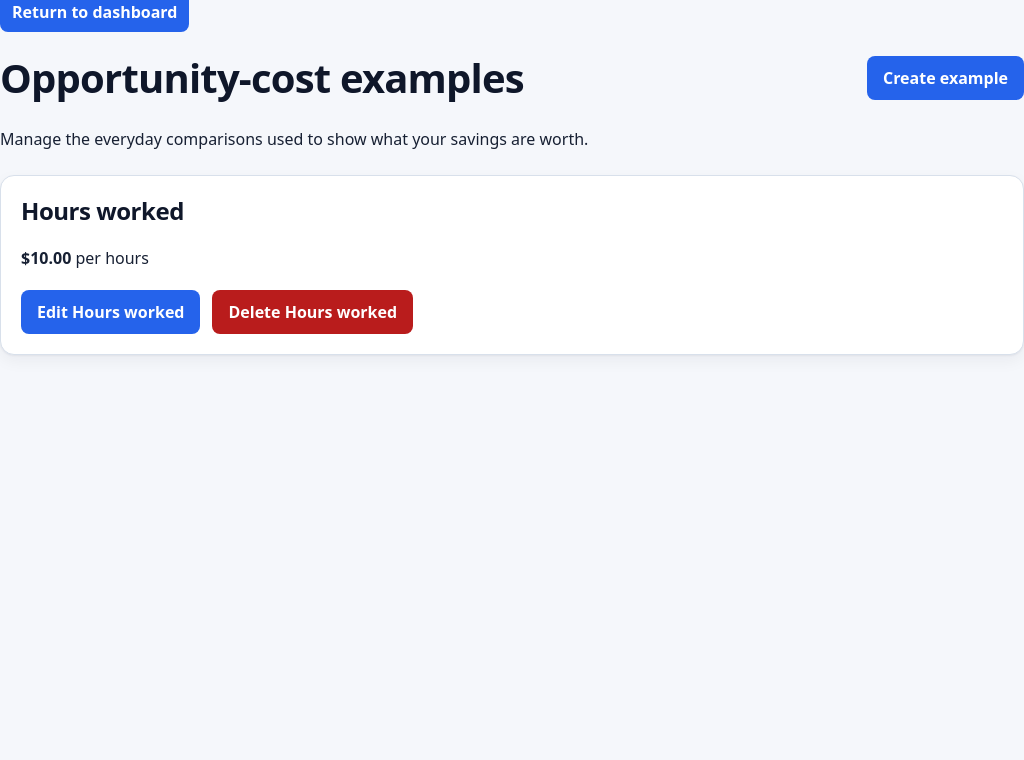
Test case: opportunity-cost settings journey › keeps server-confirmed list data unchanged after a failed edit
This screenshot has width=1024, height=760.
Click the button "Edit Hours worked".
click(111, 312)  # box [21,290,200,334]
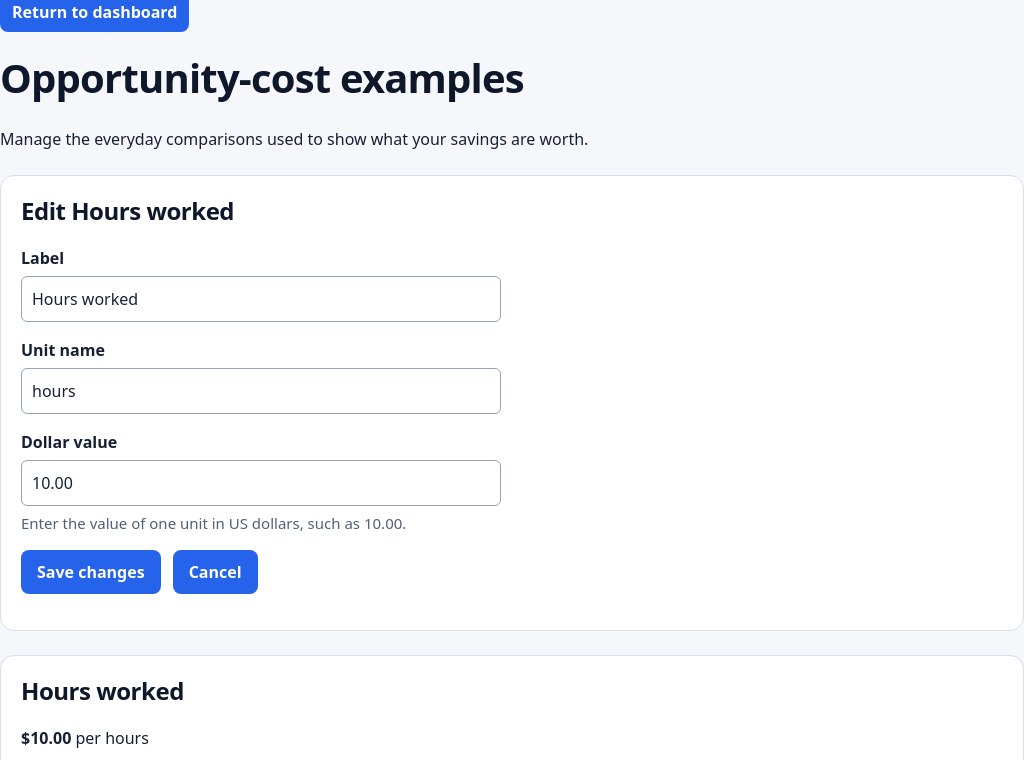
Replace the text in the field labelled "Label" with "Unconfirmed replacement" at (261, 299), box [21,276,501,322]
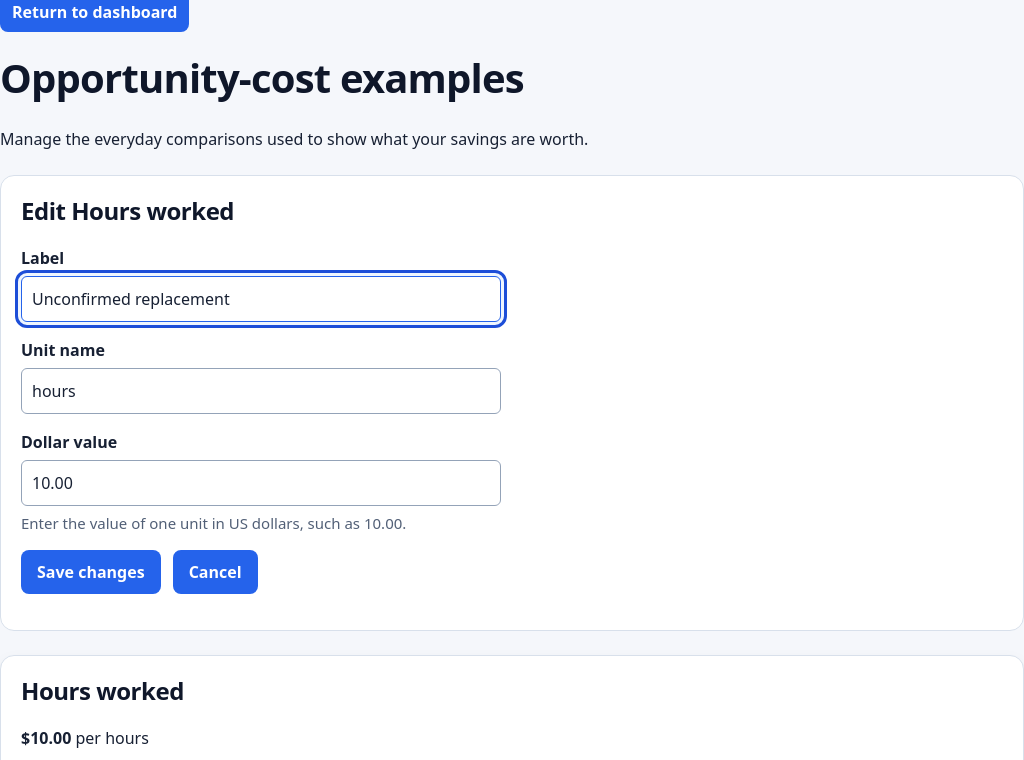
Click the button "Save changes".
click(91, 572)  # box [21,550,161,594]
(page scrolled)
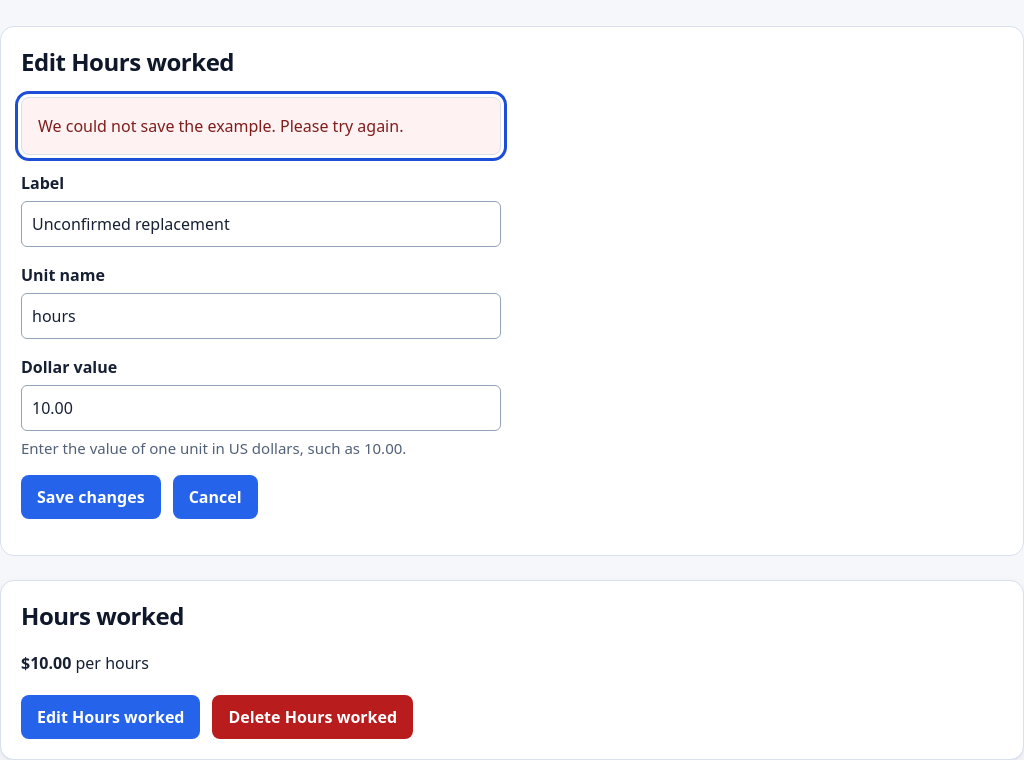
Expected: the heading "Hours worked" is shown, [21,599,184,632]
Now the message reads "We could not save the example. Please try again.", box [38,115,403,137]
